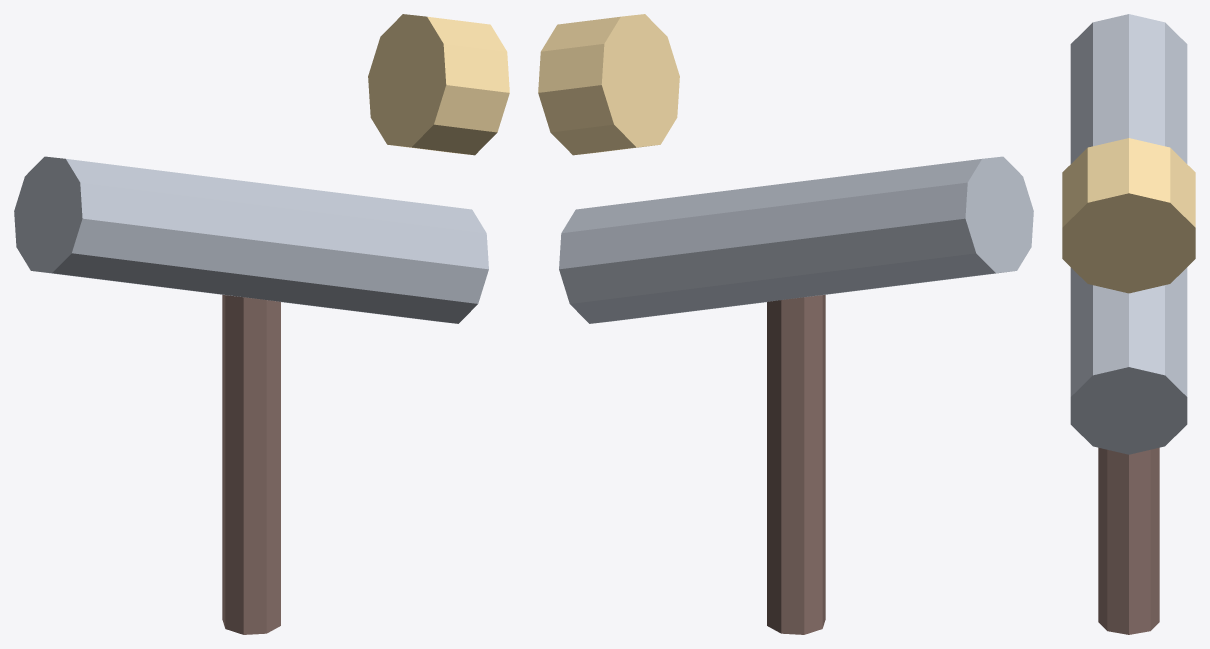
The model's file is telescope.glb.
The picture shows the model from 3 angles, left to right: view 1: azimuth 30°, elevation 25°; view 2: azimuth 150°, elevation 25°; view 3: azimuth 270°, elevation 25°; orthographic projection.
Visible parts, largest first — view 1: telescope_1, telescope_0, telescope_2; view 2: telescope_1, telescope_0, telescope_2; view 3: telescope_1, telescope_2, telescope_0.
Boxes of the visible parts, left/top/right/bottom form: telescope_1: left=14, top=156, right=488, bottom=323; telescope_0: left=222, top=295, right=280, bottom=634; telescope_2: left=368, top=14, right=509, bottom=155; telescope_1: left=559, top=156, right=1033, bottom=323; telescope_0: left=767, top=295, right=825, bottom=634; telescope_2: left=538, top=14, right=679, bottom=155; telescope_1: left=1070, top=14, right=1187, bottom=454; telescope_2: left=1062, top=138, right=1195, bottom=293; telescope_0: left=1098, top=447, right=1159, bottom=634.
Size of the model in its own units: 1.23 by 1.44 by 0.3043.
